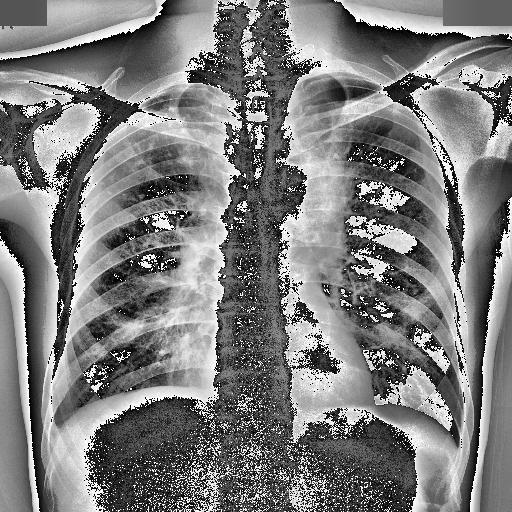0- Aortic enlargement: (267, 160, 308, 220)
10- Pleural effusion: (46, 404, 88, 446)
11- Pleural thickening: (46, 404, 88, 446)
13- Pulmonary fibrosis: (92, 92, 193, 200), (96, 108, 210, 199), (384, 139, 408, 161)
4- Consolidation: (277, 139, 362, 248)
5- ILD: (345, 176, 441, 251)
7- Lung Opacity: (277, 139, 362, 248), (276, 148, 344, 250), (176, 264, 231, 386), (160, 88, 229, 184)
8- Nodule-Mass: (277, 139, 362, 248), (284, 154, 348, 242)
9- Other lesion: (94, 142, 156, 203)
